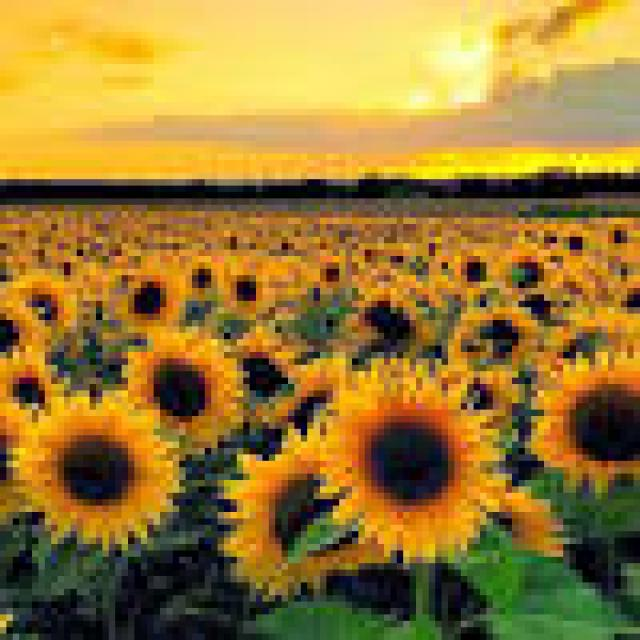sunflower: (316, 360, 517, 566), (12, 381, 186, 547), (537, 329, 640, 489), (128, 317, 243, 451), (93, 260, 189, 342), (342, 284, 438, 362), (486, 237, 564, 301), (218, 256, 282, 320)
